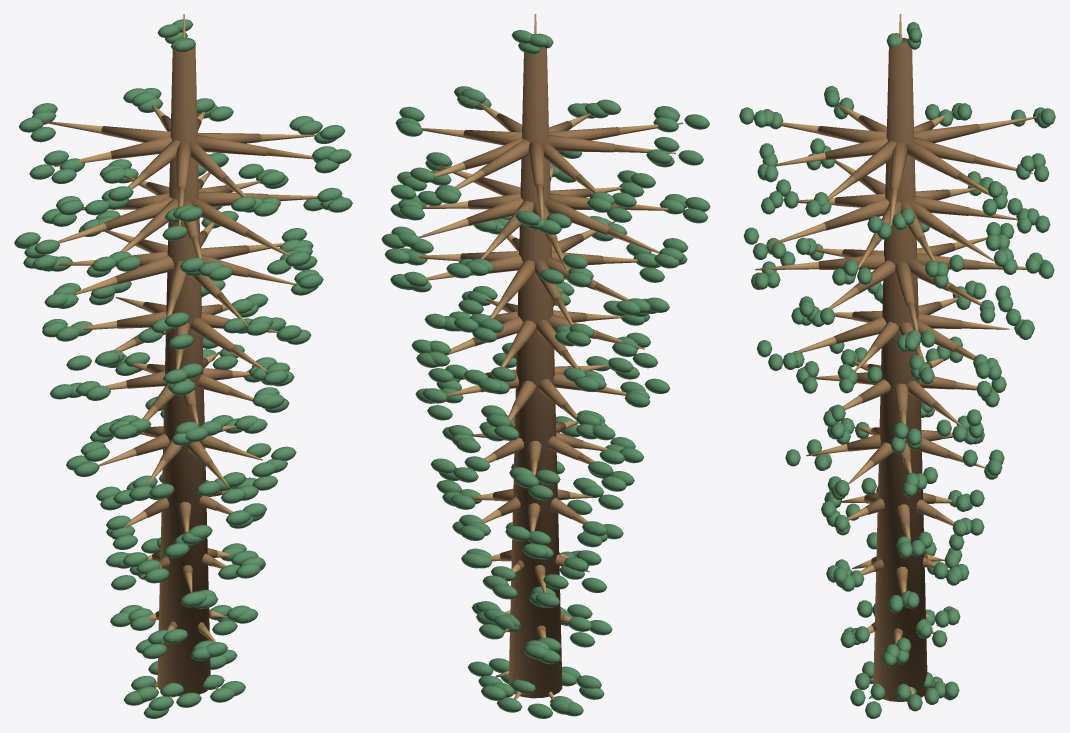
Rendered from conifer_tree_b.glb.
3 views of the same model, side by side, from view 1: azimuth 30°, elevation 25°; view 2: azimuth 150°, elevation 25°; view 3: azimuth 270°, elevation 25° (orthographic).
Visible parts, largest first — view 1: conifer_tree_b_trunk, conifer_tree_b_branch_0_8_a, conifer_tree_b_branch_1_4_a, conifer_tree_b_branch_2_4_a, conifer_tree_b_branch_0_3_a, conifer_tree_b_branch_0_4_a, conifer_tree_b_branch_1_7_a, conifer_tree_b_branch_1_8_a, conifer_tree_b_branch_3_6_a, conifer_tree_b_branch_0_6_a, conifer_tree_b_branch_0_7_a, conifer_tree_b_branch_0_5_a; view 2: conifer_tree_b_trunk, conifer_tree_b_branch_0_5_a, conifer_tree_b_branch_1_4_a, conifer_tree_b_branch_0_2_a, conifer_tree_b_branch_1_1_a, conifer_tree_b_branch_0_0_a, conifer_tree_b_branch_0_6_a, conifer_tree_b_branch_0_3_a, conifer_tree_b_branch_0_4_a, conifer_tree_b_branch_2_2_a, conifer_tree_b_branch_0_1_a; view 3: conifer_tree_b_trunk, conifer_tree_b_branch_1_7_a, conifer_tree_b_branch_0_1_a, conifer_tree_b_branch_0_6_a, conifer_tree_b_branch_0_7_a, conifer_tree_b_branch_0_3_a, conifer_tree_b_branch_0_8_a, conifer_tree_b_branch_3_6_a, conifer_tree_b_branch_0_2_a, conifer_tree_b_branch_1_2_a, conifer_tree_b_branch_2_6_a, conifer_tree_b_branch_0_0_a (+4 smaller).
Boxes of the visible parts, box(x1,y1,x2,y2) form: conifer_tree_b_trunk: box(157, 37, 210, 696); conifer_tree_b_branch_0_8_a: box(195, 135, 267, 155); conifer_tree_b_branch_1_4_a: box(103, 196, 172, 230); conifer_tree_b_branch_2_4_a: box(114, 255, 173, 284); conifer_tree_b_branch_0_3_a: box(101, 126, 170, 142); conifer_tree_b_branch_0_4_a: box(110, 136, 171, 159); conifer_tree_b_branch_1_7_a: box(191, 198, 249, 236); conifer_tree_b_branch_1_8_a: box(198, 191, 268, 206); conifer_tree_b_branch_3_6_a: box(190, 317, 235, 352); conifer_tree_b_branch_0_6_a: box(175, 141, 190, 189); conifer_tree_b_branch_0_7_a: box(189, 140, 227, 182); conifer_tree_b_branch_0_5_a: box(141, 140, 180, 179); conifer_tree_b_trunk: box(508, 47, 562, 698); conifer_tree_b_branch_0_5_a: box(547, 134, 614, 152); conifer_tree_b_branch_1_4_a: box(543, 197, 610, 235); conifer_tree_b_branch_0_2_a: box(479, 139, 529, 176); conifer_tree_b_branch_1_1_a: box(466, 197, 523, 225); conifer_tree_b_branch_0_0_a: box(463, 130, 521, 145); conifer_tree_b_branch_0_6_a: box(549, 127, 620, 140); conifer_tree_b_branch_0_3_a: box(528, 141, 543, 186); conifer_tree_b_branch_0_4_a: box(541, 140, 580, 180); conifer_tree_b_branch_2_2_a: box(502, 260, 534, 301); conifer_tree_b_branch_0_1_a: box(462, 138, 523, 169); conifer_tree_b_trunk: box(873, 38, 927, 701); conifer_tree_b_branch_1_7_a: box(823, 198, 889, 230); conifer_tree_b_branch_0_1_a: box(906, 141, 961, 179); conifer_tree_b_branch_0_6_a: box(817, 126, 886, 143); conifer_tree_b_branch_0_7_a: box(825, 137, 887, 160); conifer_tree_b_branch_0_3_a: box(914, 124, 980, 143); conifer_tree_b_branch_0_8_a: box(850, 140, 896, 182); conifer_tree_b_branch_3_6_a: box(834, 317, 886, 344); conifer_tree_b_branch_0_2_a: box(912, 137, 975, 163); conifer_tree_b_branch_1_2_a: box(914, 195, 969, 215); conifer_tree_b_branch_2_6_a: box(818, 253, 884, 269); conifer_tree_b_branch_0_0_a: box(890, 142, 907, 191).
Size of the model in its own units: 3.74 by 8.03 by 3.34.
